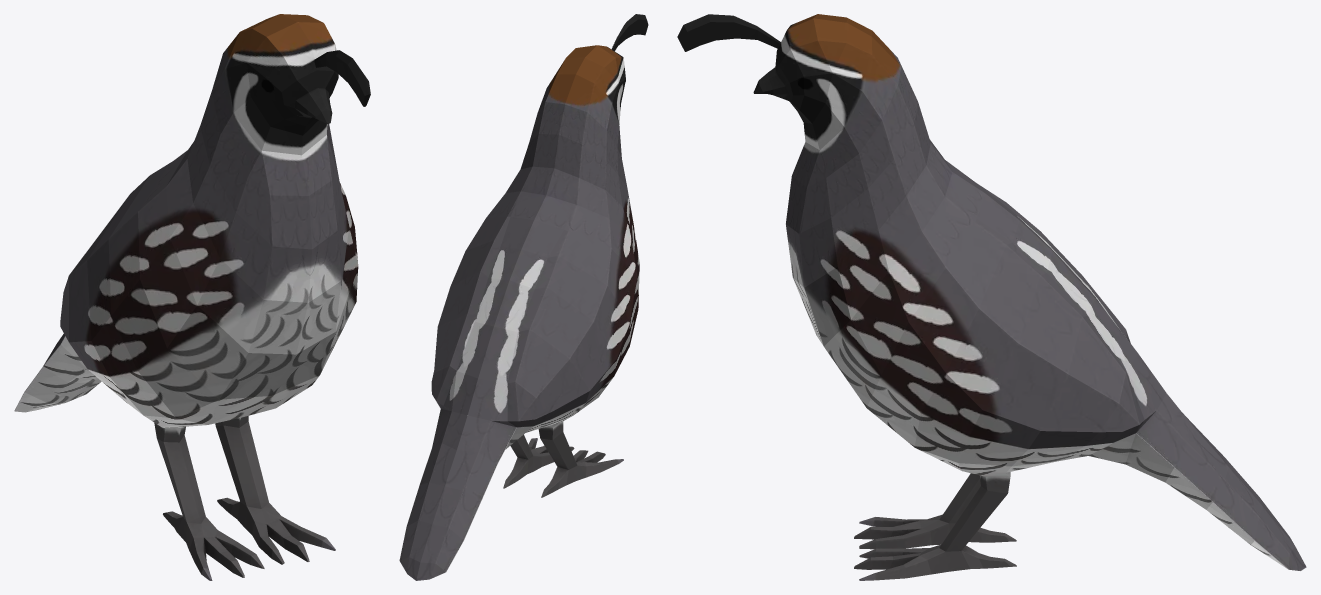
File: 4A0kLzM65Mg.glb
3 views of the same model, side by side, from view 1: azimuth 30°, elevation 25°; view 2: azimuth 150°, elevation 25°; view 3: azimuth 270°, elevation 25° (orthographic). The views are drawn at different scales.
Visible parts, largest first — view 1: GambelsQuail_Mesh; view 2: GambelsQuail_Mesh; view 3: GambelsQuail_Mesh.
Part boxes in pixels (box(x1,y1,x2,y2)): GambelsQuail_Mesh: box(14, 14, 370, 580); GambelsQuail_Mesh: box(399, 14, 648, 580); GambelsQuail_Mesh: box(677, 14, 1306, 580).
Size of the model in its own units: 0.4216 by 1 by 1.03.
Materials: 1 (1 with a texture image).
